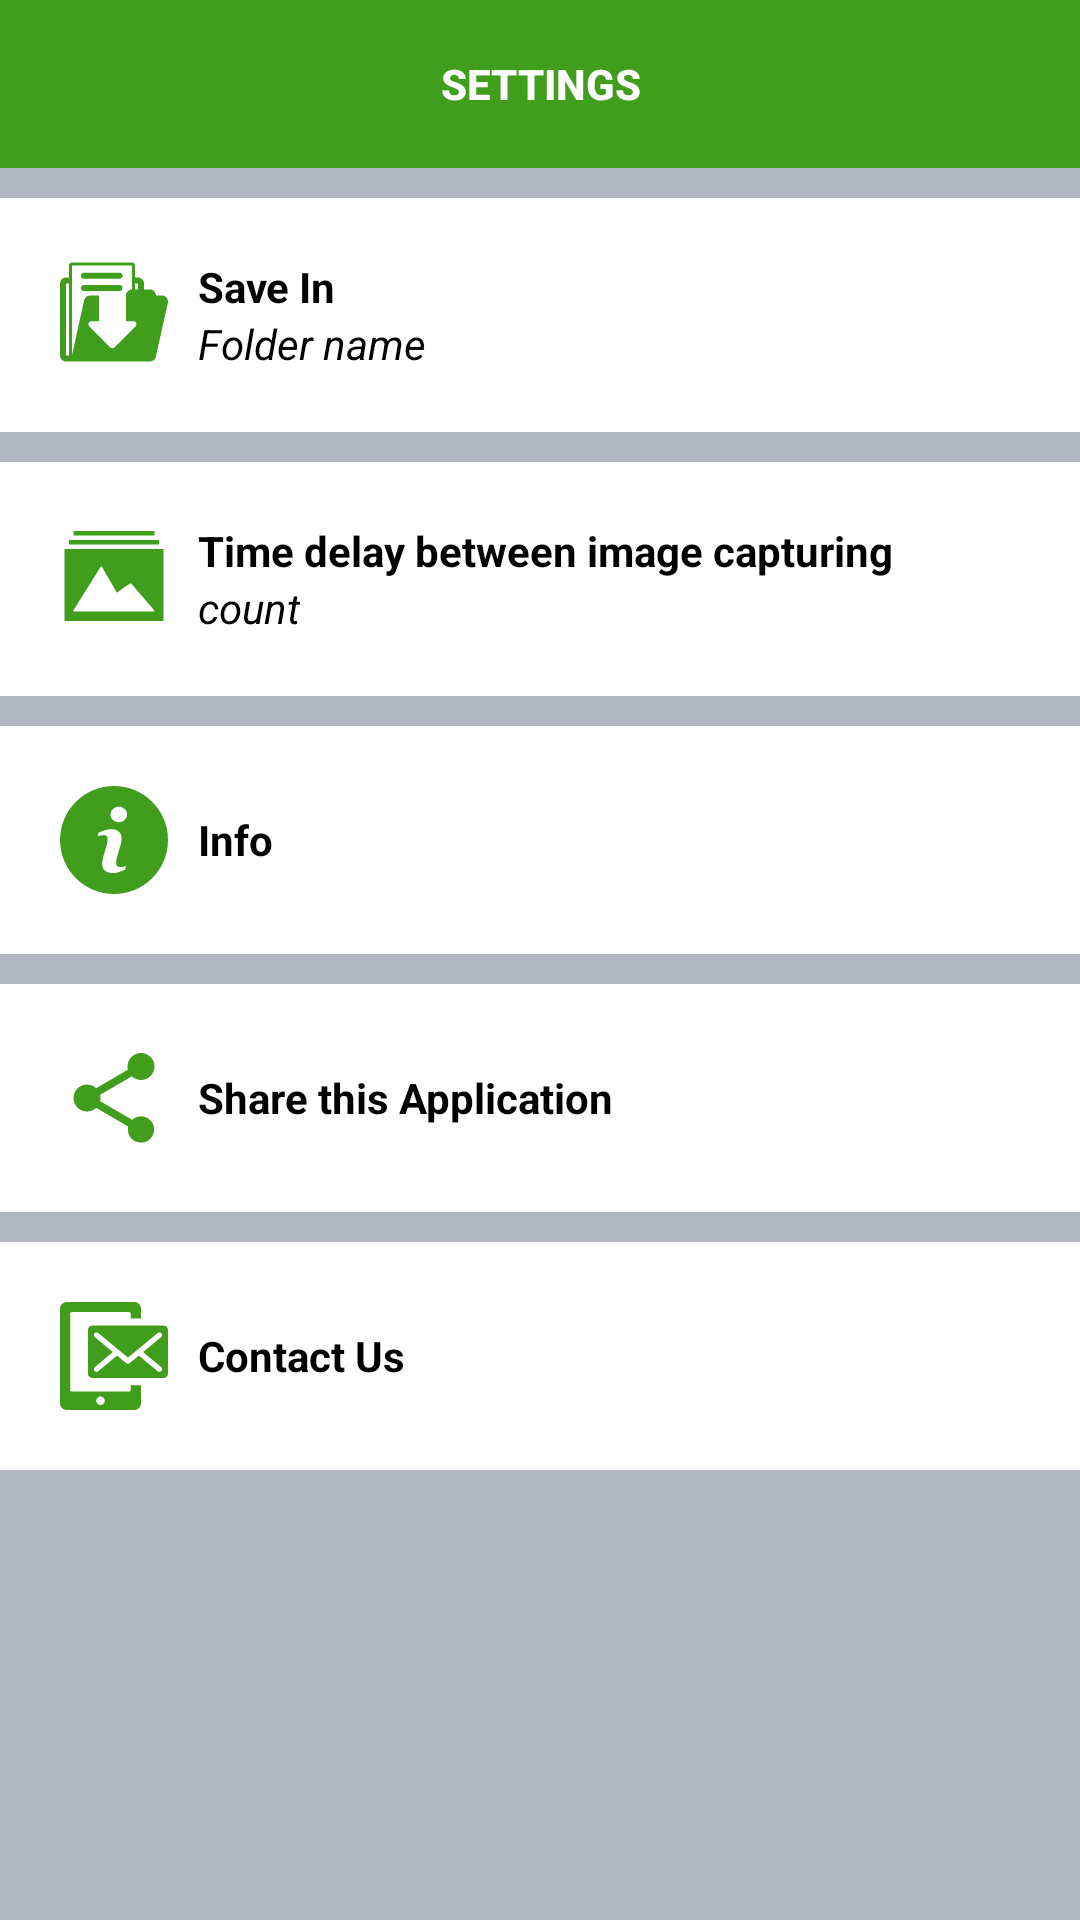

Locate icon controls on the screen. Image size 1080px x 1920px, boxes as detection(x1, y1, x2, y2).
imagestack: detection(64, 531, 164, 621)
